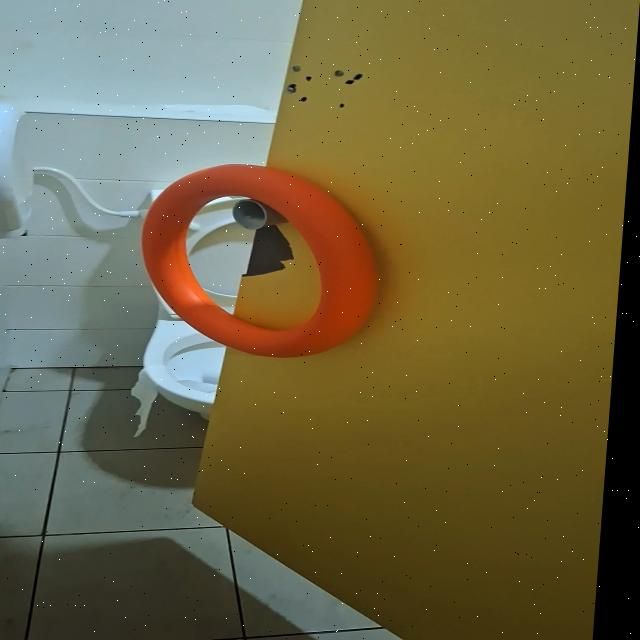note: (136, 162, 392, 359)
